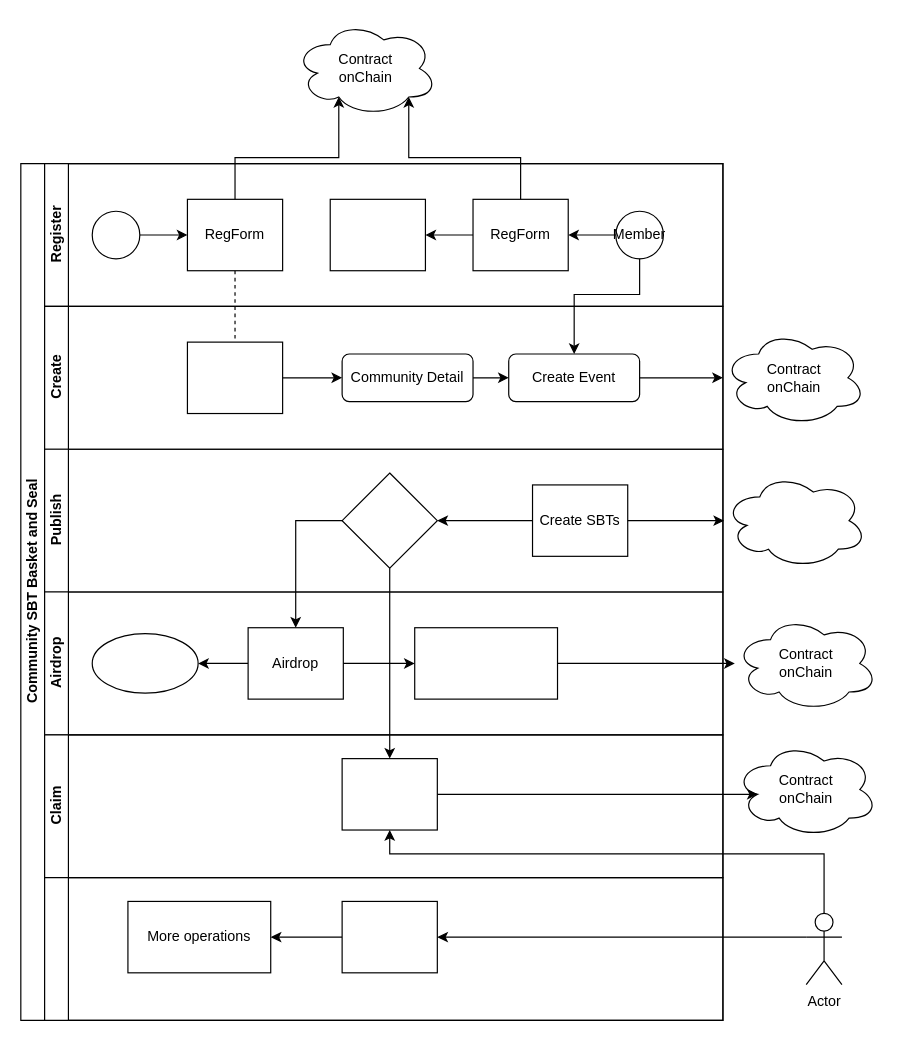
Some shapes in this 898 by 1041 pixel diagram are drawn without their labels. The shapes that lost their labels are listed below. From the top down, each one's box as (x1, y1, x2, y2) in pixels, then its label:
(91, 210, 140, 259): Community
(329, 198, 425, 271): SBTs List
(186, 341, 283, 414): Community List
(341, 472, 437, 568): Publish type
(723, 472, 867, 568): IPFS
(91, 632, 198, 693): upload excel
(414, 627, 558, 699): excute
(341, 757, 437, 830): Claim page
(43, 876, 723, 1020): Basket
(341, 900, 437, 973): SBTs Show page
